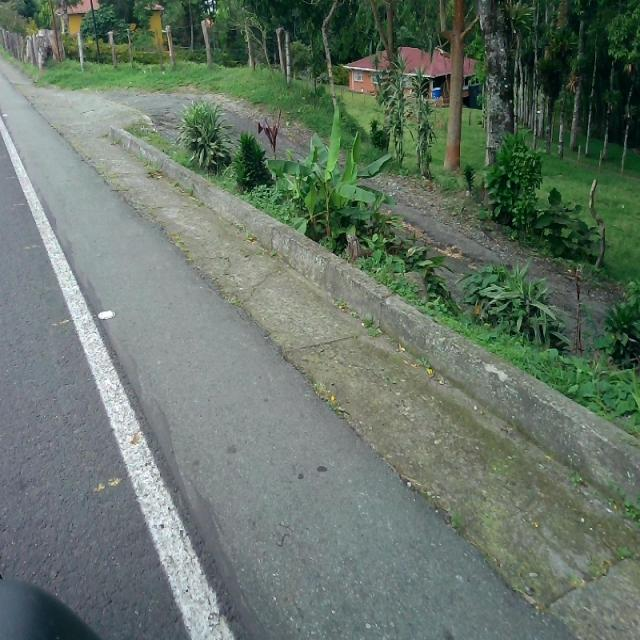DITCH: (14, 19, 639, 638), (1, 54, 638, 638)
